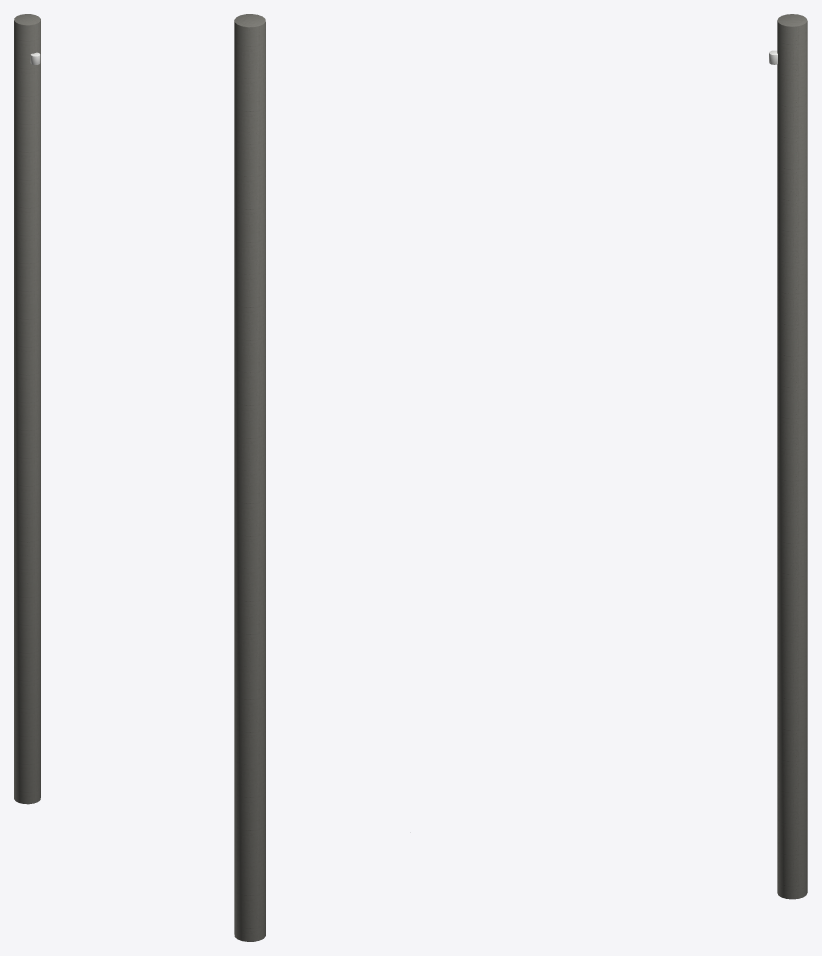
File: SER-LIG-001_anim.glb
3 renders of one model, left to right at view 1: azimuth 30°, elevation 25°; view 2: azimuth 150°, elevation 25°; view 3: azimuth 270°, elevation 25°, orthographic. The views are drawn at different scales.
Visible parts, largest first — view 1: SER-LIG-001_anim0; view 2: SER-LIG-001_anim0; view 3: SER-LIG-001_anim0.
Part boxes in pixels (left/top/right/bottom): SER-LIG-001_anim0: left=14, top=14, right=40, bottom=804; SER-LIG-001_anim0: left=234, top=14, right=265, bottom=941; SER-LIG-001_anim0: left=769, top=14, right=807, bottom=899.
Size of the model in its own units: 0.3067 by 7.3 by 2.67.
8 materials, 3 textured.
